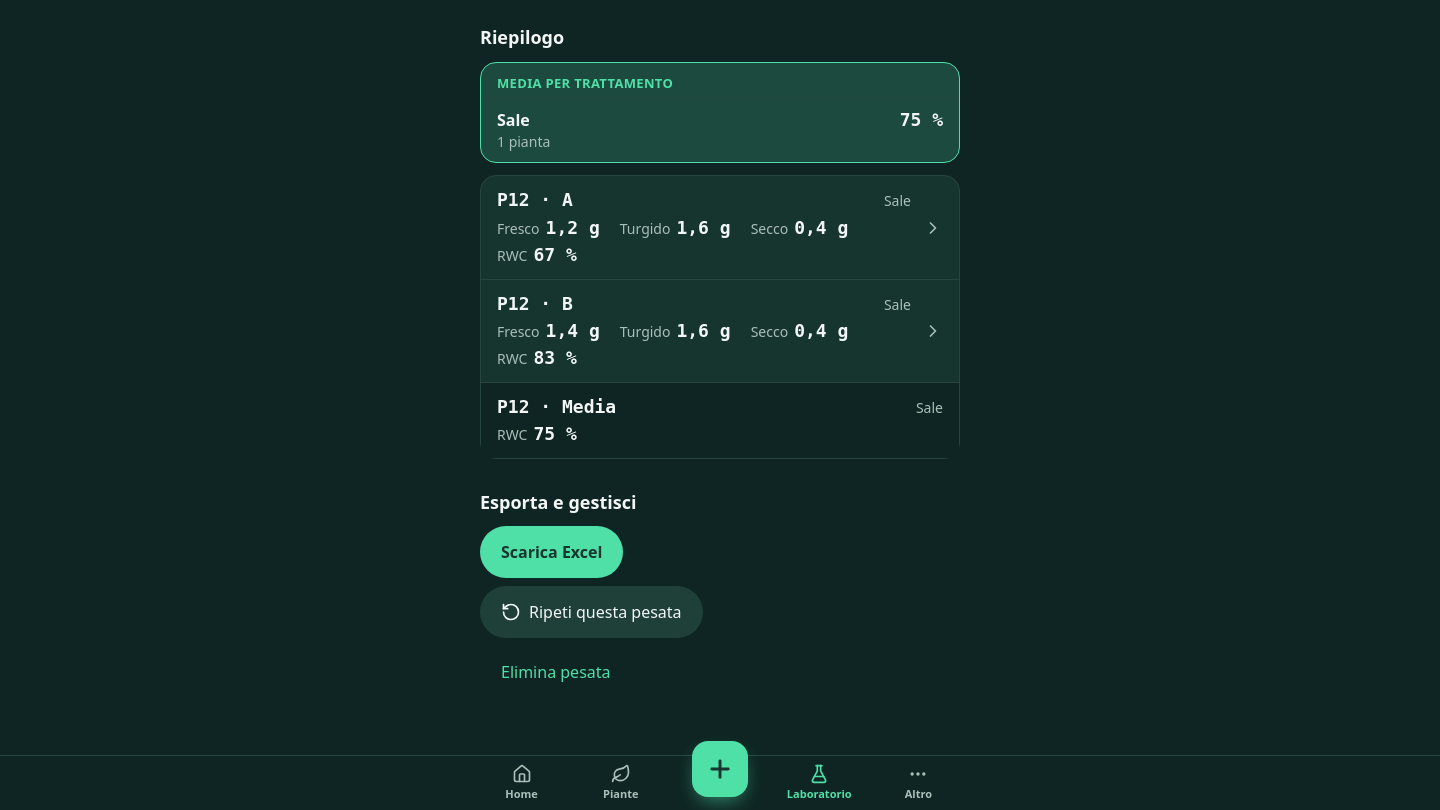
it: Sessione › un errore di scaricamento resta sotto i pulsanti
The width and height of the screenshot is (1440, 810).
(page scrolled)
Click the button "Scarica Excel" at {"x": 552, "y": 552}, box [480,526,623,578]
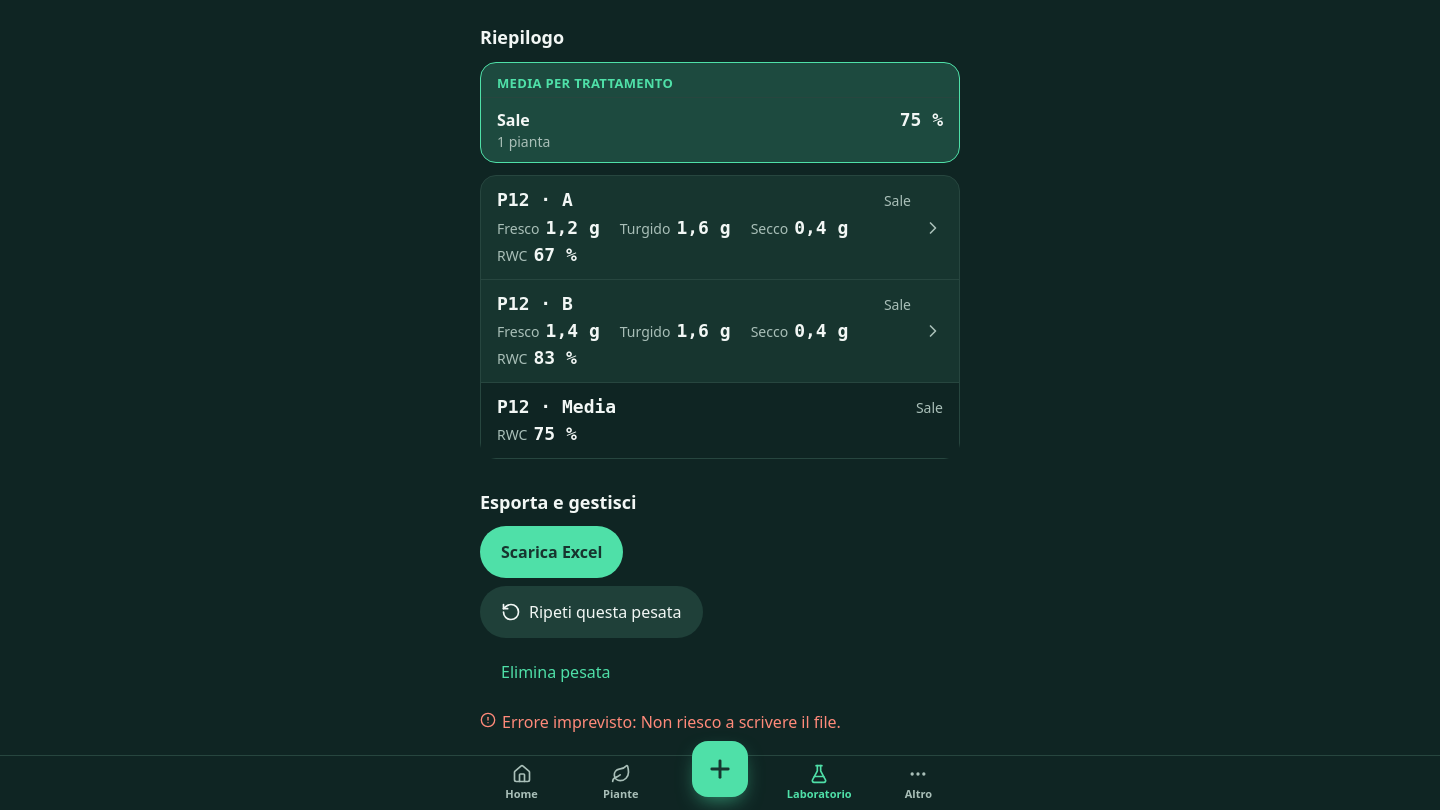
Now the message shows "Non riesco", box [502,711,841,733]
